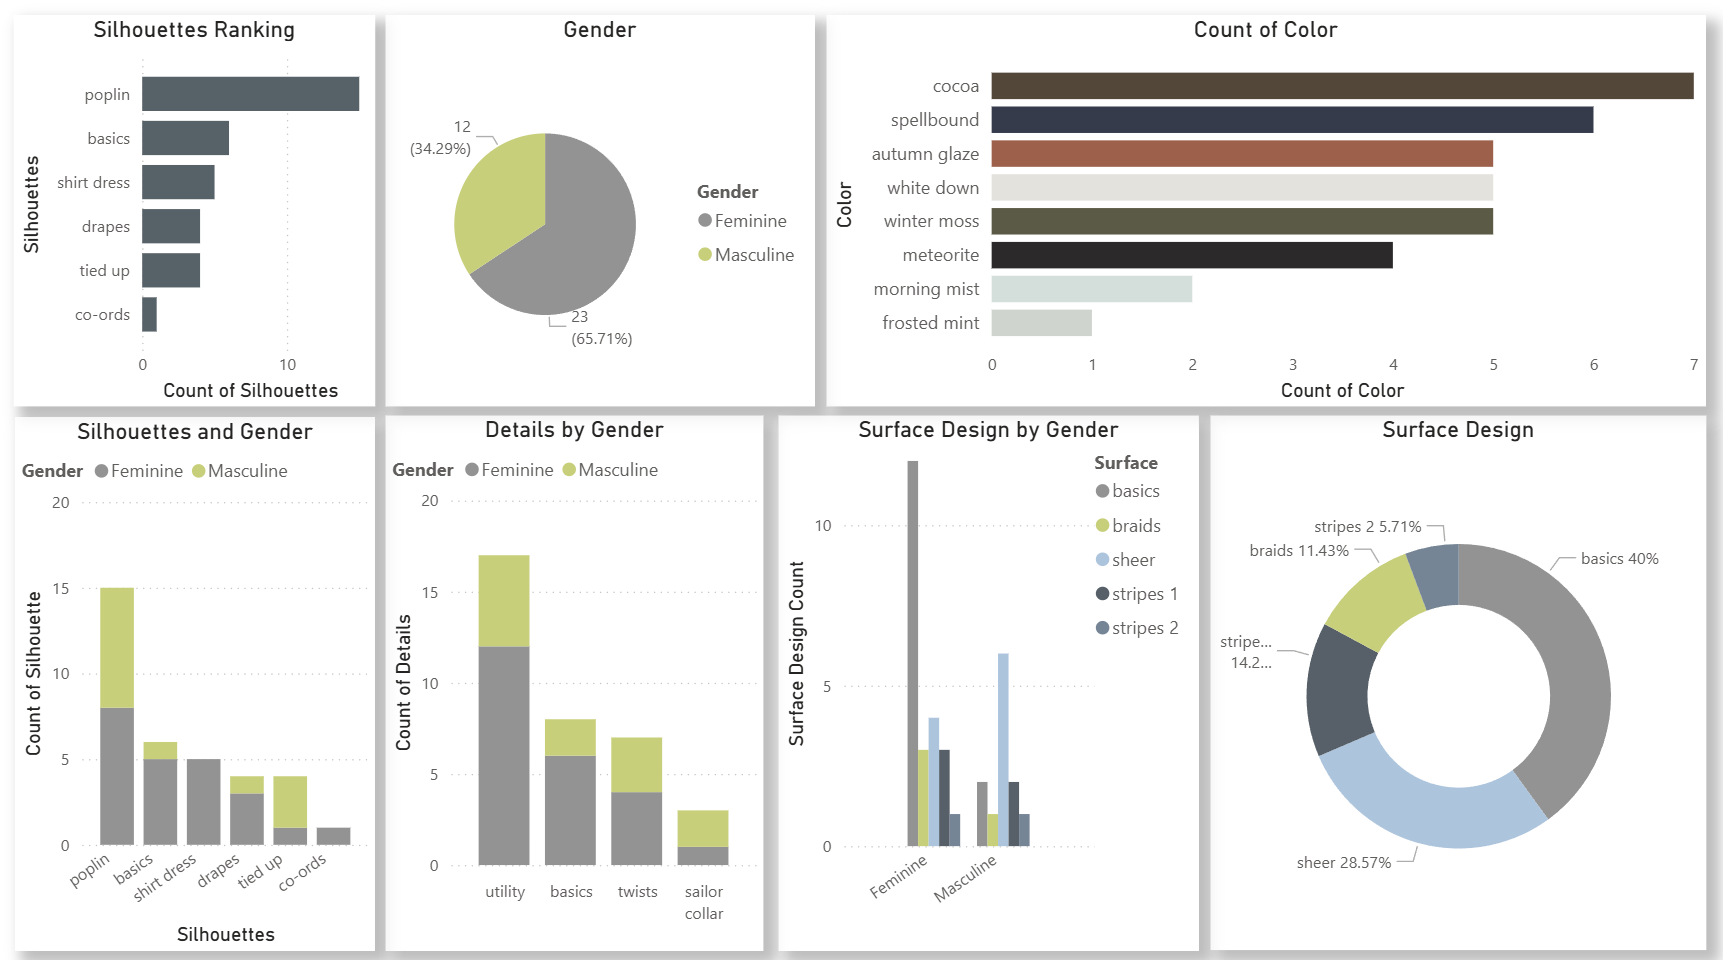

Layout of this report page (visuals, bound fields, positions):
{"tool":"powerbi","page":{"name":"Page 1","canvas":[1280,720],"ordinal":0},"visuals":[{"type":"barChart","title":"Silhouettes Ranking","fields":{"Category":["Sheet1.Silhouettes"],"Y":["CountNonNull(Sheet1.Silhouettes)"]},"box":[12.2,17.8,267.8,290],"z":1000},{"type":"pieChart","title":"Gender","fields":{"Category":["Sheet1.Gender"],"Y":["CountNonNull(Sheet1.Gender)"]},"box":[287.8,17.8,317.8,290],"z":2000},{"type":"barChart","title":"Count of Color","fields":{"Category":["Sheet1.Color"],"Y":["CountNonNull(Sheet1.Color)"]},"box":[614.4,17.8,651.1,290],"z":7000},{"type":"columnChart","title":"Silhouettes and Gender","fields":{"Y":["CountNonNull(Sheet1.Gender)"],"Category":["Sheet1.Silhouettes"],"Series":["Sheet1.Gender"]},"box":[13.3,315.6,266.7,395.6],"z":9000},{"type":"columnChart","title":"Details by Gender ","fields":{"Category":["Sheet1.Details"],"Y":["CountNonNull(Sheet1.Gender)"],"Series":["Sheet1.Gender"]},"box":[287.8,314.4,280,396.7],"z":9500},{"type":"clusteredColumnChart","title":"Surface Design by Gender ","fields":{"Category":["Sheet1.Gender"],"Y":["CountNonNull(Sheet1.Surface)"],"Series":["Sheet1.Surface"]},"box":[578.9,314.4,311.1,396.7],"z":10000},{"type":"donutChart","title":"Surface Design","fields":{"Category":["Sheet1.Surface"],"Y":["CountNonNull(Sheet1.Surface)"]},"box":[898.6,314.8,367.1,395.9],"z":10500}]}

Visuals, with their boxes in screenshot pixels (x1, y1, x2, y2), scaled from the page's 1280x720 canvas onto the 1723x960 screenshot:
"Silhouettes Ranking" barChart: <region>16, 24, 377, 410</region>
"Gender" pieChart: <region>387, 24, 815, 410</region>
"Count of Color" barChart: <region>827, 24, 1703, 410</region>
"Silhouettes and Gender" columnChart: <region>18, 421, 377, 948</region>
"Details by Gender " columnChart: <region>387, 419, 764, 948</region>
"Surface Design by Gender " clusteredColumnChart: <region>779, 419, 1198, 948</region>
"Surface Design" donutChart: <region>1210, 420, 1704, 948</region>
